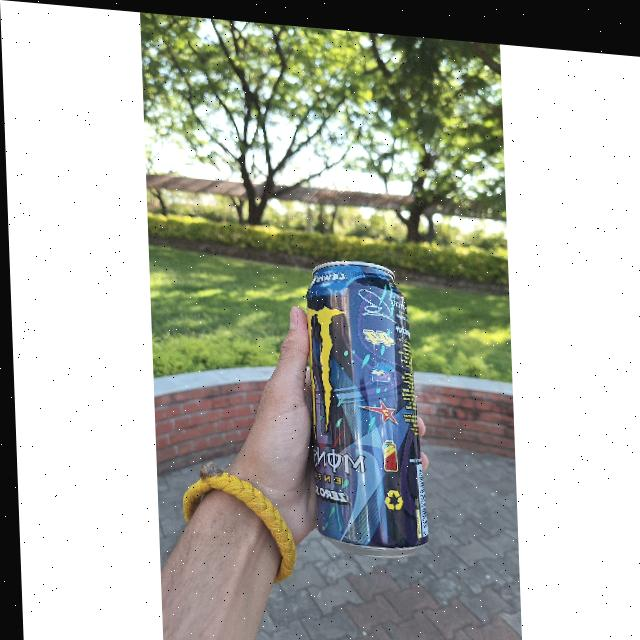Monster LH44: (301, 244, 425, 559)
